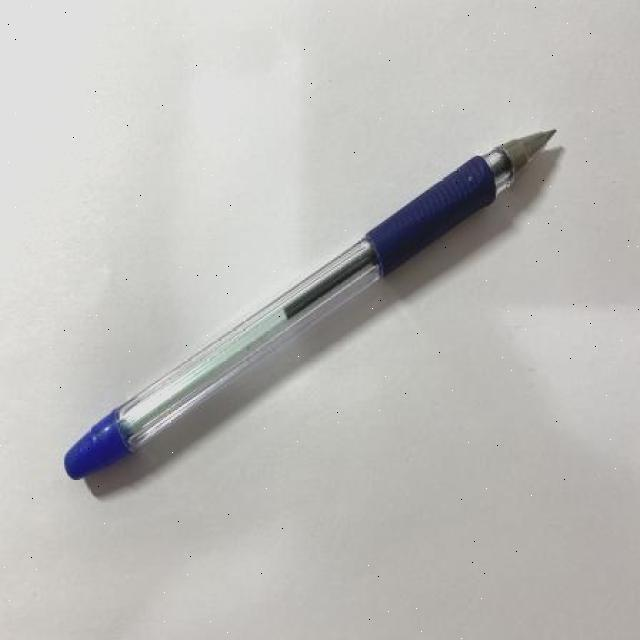pen: (64, 127, 559, 483)
